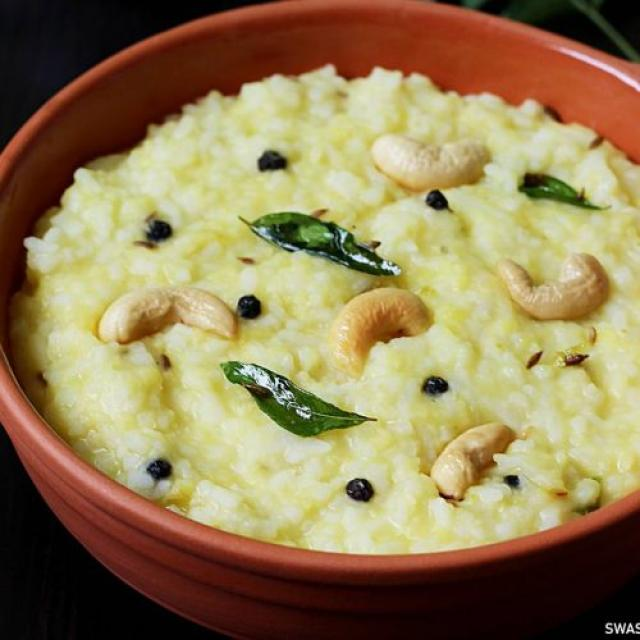khara pongal: (0, 46, 640, 581)
